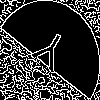Y: (25, 25, 71, 82)
